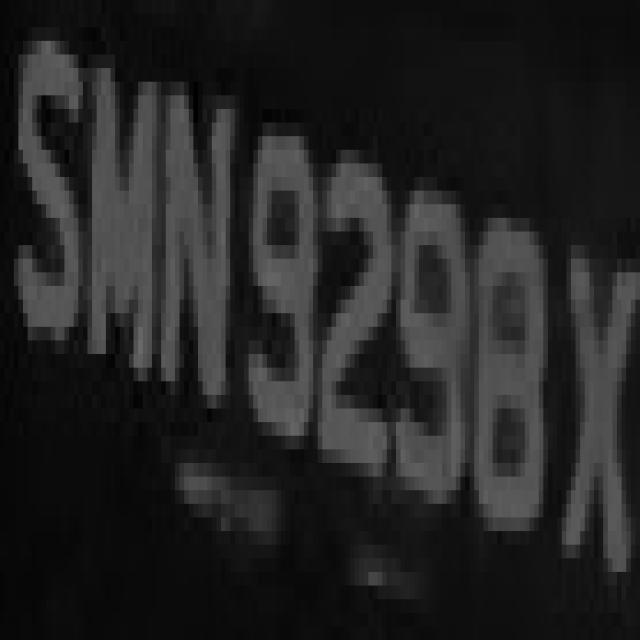2: (309, 109, 405, 477)
8: (456, 177, 548, 586)
9: (239, 95, 327, 477), (391, 136, 470, 545)
M: (87, 28, 166, 382)
N: (152, 54, 230, 463)
S: (18, 14, 88, 395)
X: (562, 191, 635, 599)
